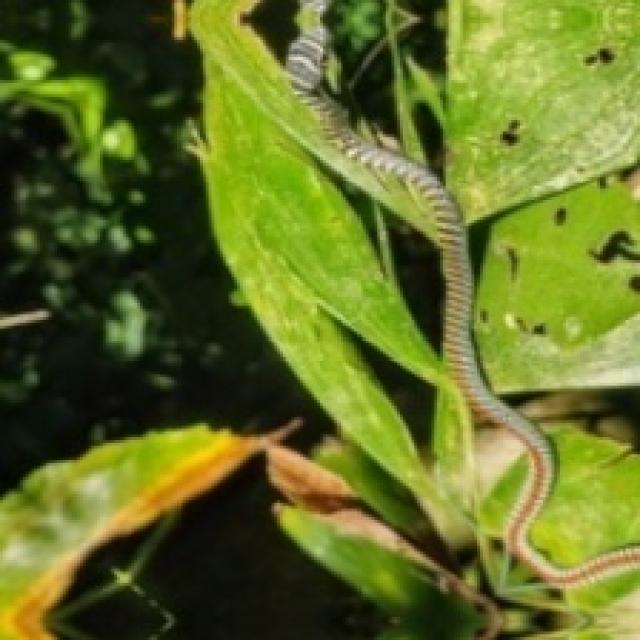paradise tree snake: (286, 0, 637, 591)
